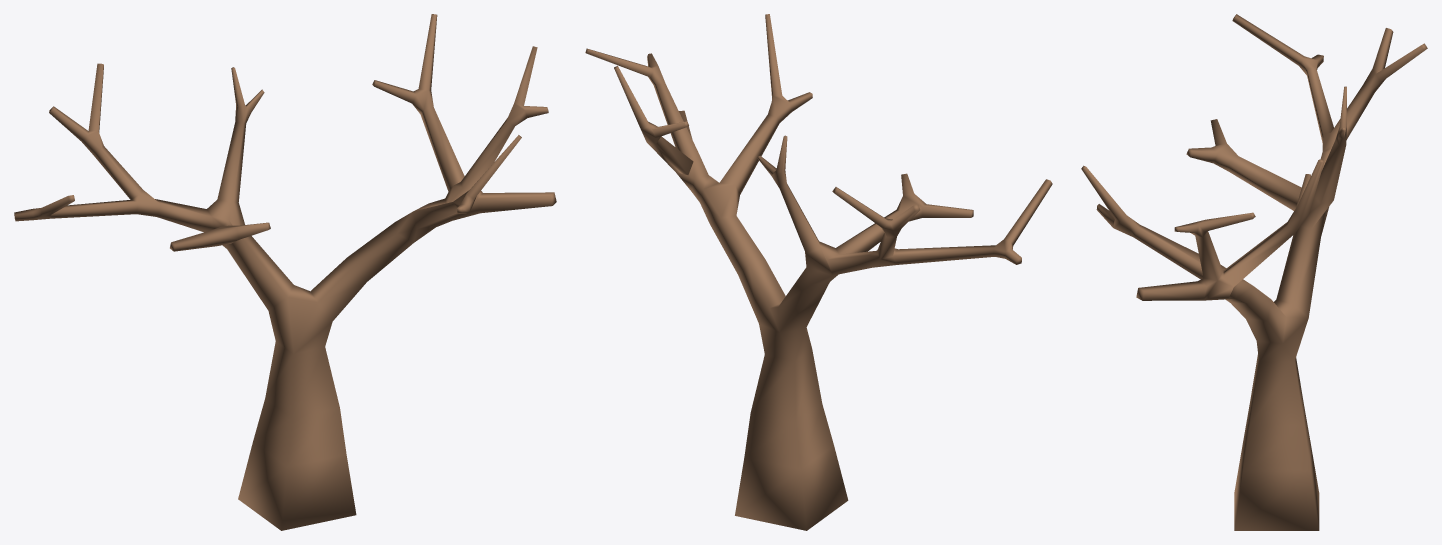
Rendered from Acacia_Dry_LightBrown_2.fbx.
3 views of the same model, side by side, from view 1: azimuth 30°, elevation 25°; view 2: azimuth 150°, elevation 25°; view 3: azimuth 270°, elevation 25° (orthographic). The views are drawn at different scales.
Visible parts, largest first — view 1: Acacia_Dry_LightBrown_2; view 2: Acacia_Dry_LightBrown_2; view 3: Acacia_Dry_LightBrown_2.
Part boxes in pixels (box(x1,y1,x2,y2)): Acacia_Dry_LightBrown_2: box(14, 14, 556, 530); Acacia_Dry_LightBrown_2: box(585, 14, 1052, 530); Acacia_Dry_LightBrown_2: box(1081, 14, 1427, 530).
Bounding box in the file's own units: 623 × 535 × 391.
